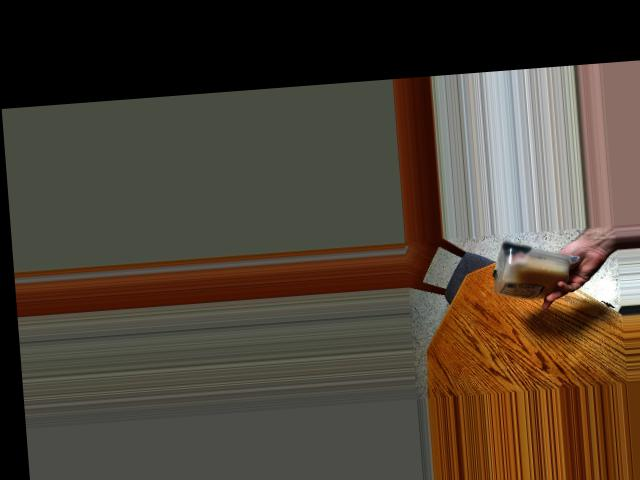cheese: (487, 238, 574, 305)
